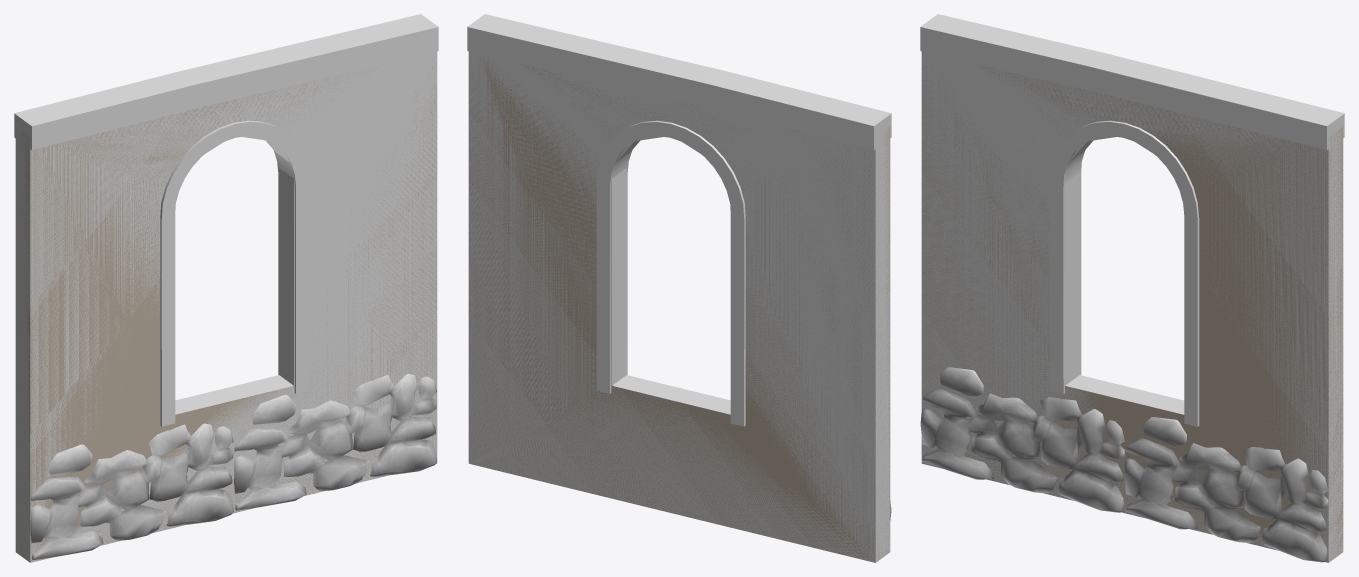
File: Foundation_Wall_1_Door_2_2X.fbx
3 renders of one model, left to right at view 1: azimuth 30°, elevation 25°; view 2: azimuth 150°, elevation 25°; view 3: azimuth 330°, elevation 25°, orthographic.
Parts seen in each view (by area): view 1: Foundation_Wall_1_Door_2_2X_LOD0, Foundation_Wall_1_Door_2_2X_COL0; view 2: Foundation_Wall_1_Door_2_2X_COL0, Foundation_Wall_1_Door_2_2X_LOD0; view 3: Foundation_Wall_1_Door_2_2X_LOD0, Foundation_Wall_1_Door_2_2X_COL0.
Part boxes in pixels (x1,y1,x2,y2): Foundation_Wall_1_Door_2_2X_LOD0: (14, 14, 438, 562); Foundation_Wall_1_Door_2_2X_COL0: (15, 51, 437, 562); Foundation_Wall_1_Door_2_2X_COL0: (468, 51, 890, 562); Foundation_Wall_1_Door_2_2X_LOD0: (467, 14, 891, 562); Foundation_Wall_1_Door_2_2X_LOD0: (920, 14, 1344, 562); Foundation_Wall_1_Door_2_2X_COL0: (921, 51, 1343, 562).
Size of what is drawn, in the model's own units: 400 by 413 by 33.81.
